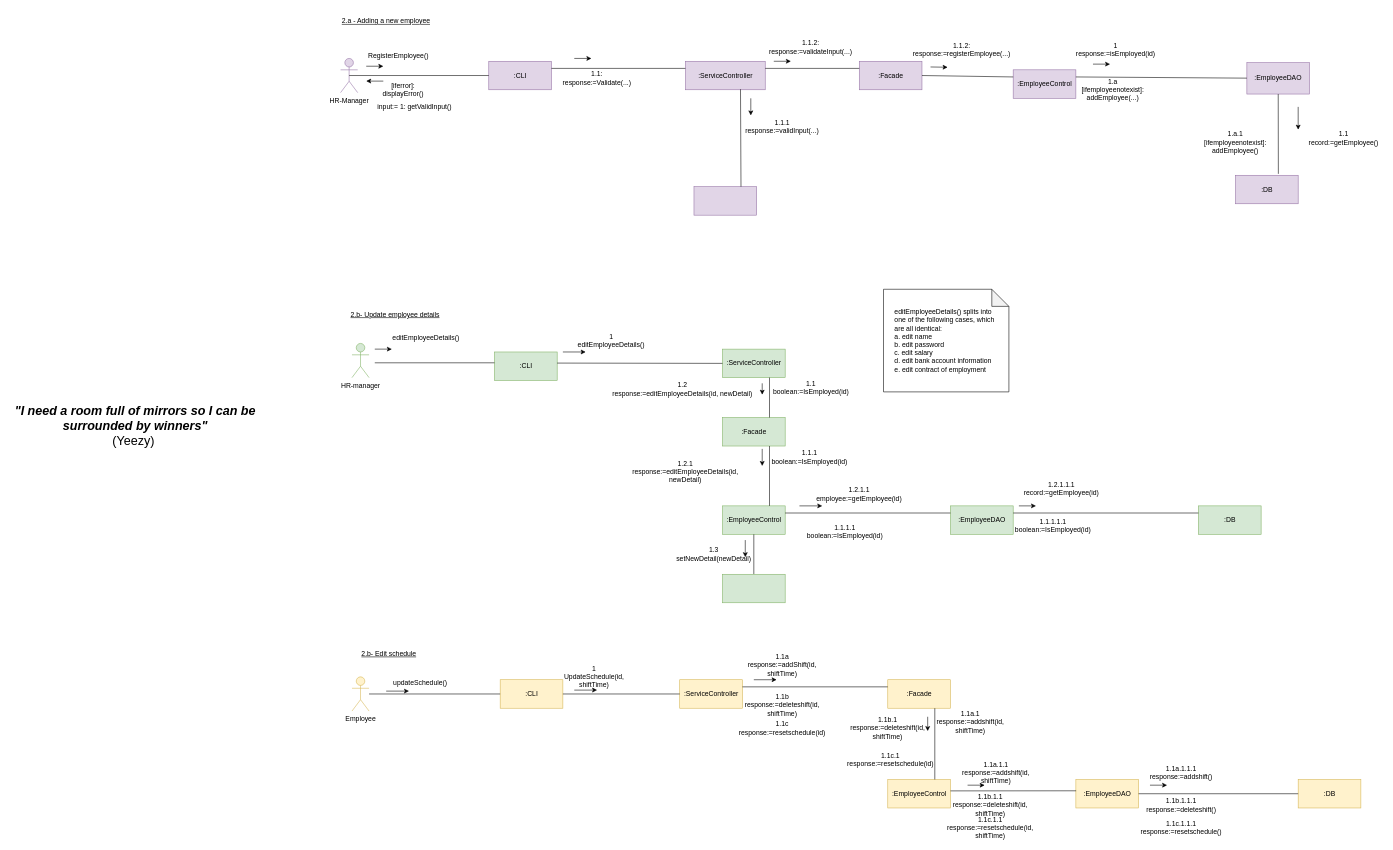
Image size: 1393x850. Some labels were removed from this diagram. Here are the shapes that lost their labels. From the top down, the box of each, then its label:
(693, 186, 757, 215): :Parser
(722, 574, 785, 603): Employee:
